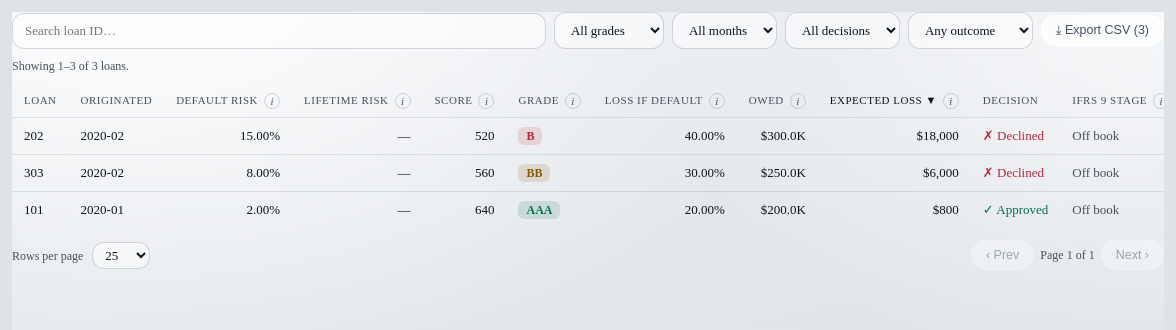
Test case: LoanTable › sorts by expected loss (highest first) by default, and re-sorts on click
The width and height of the screenshot is (1176, 330).
Expected: the text "202" is shown, [12,118,69,155]
Click the button "Default risk".
click(217, 100)  # box [176,92,258,109]
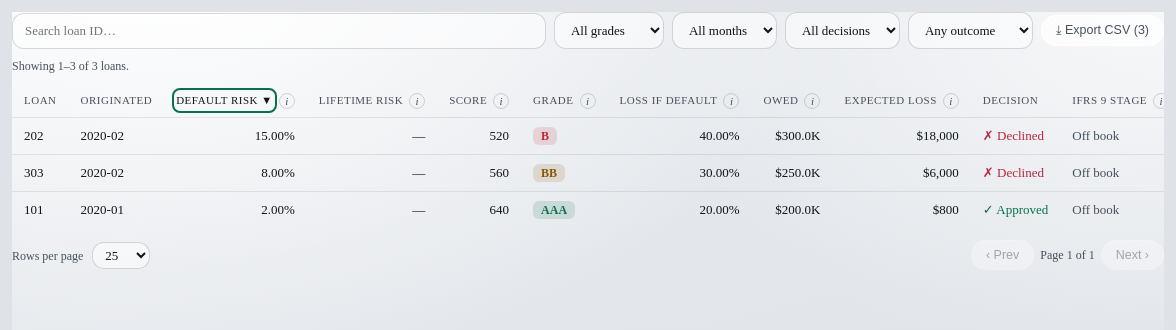
Click the button "Default risk ▼".
click(224, 100)  # box [176,92,273,109]
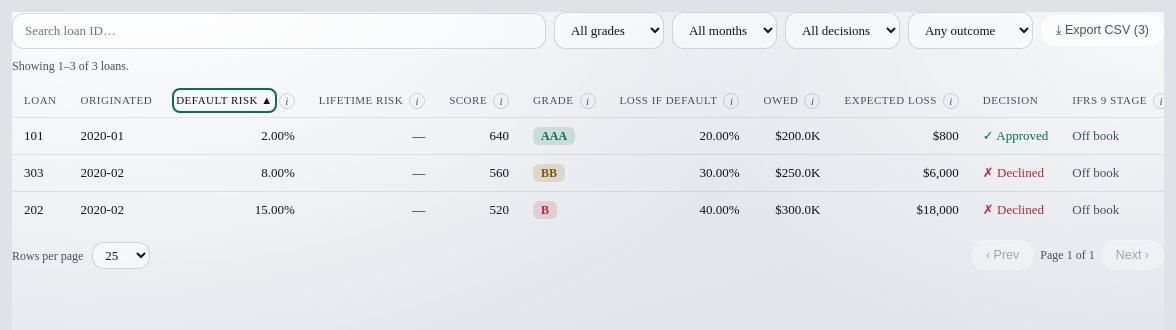
Expected: the text "101" is shown, [12,118,69,155]
Expected: the column heading "Default risk ▲ i" has attribute aria-sort="ascending", [164,84,307,118]
